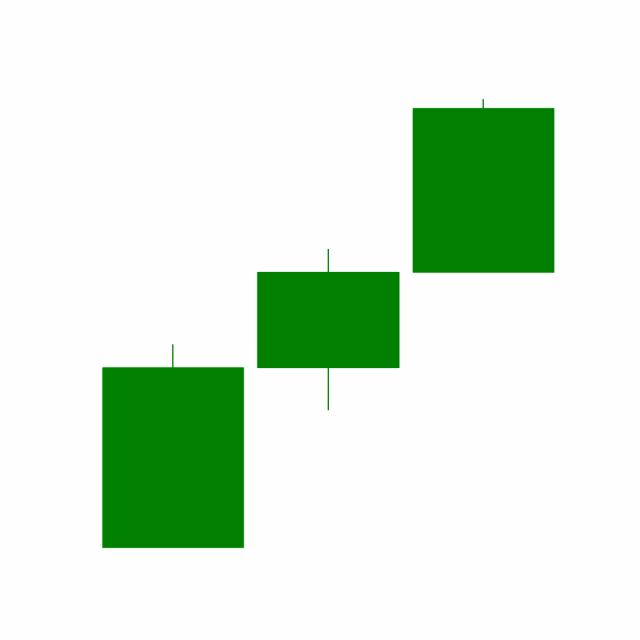Marubozu: (405, 96, 561, 274)
